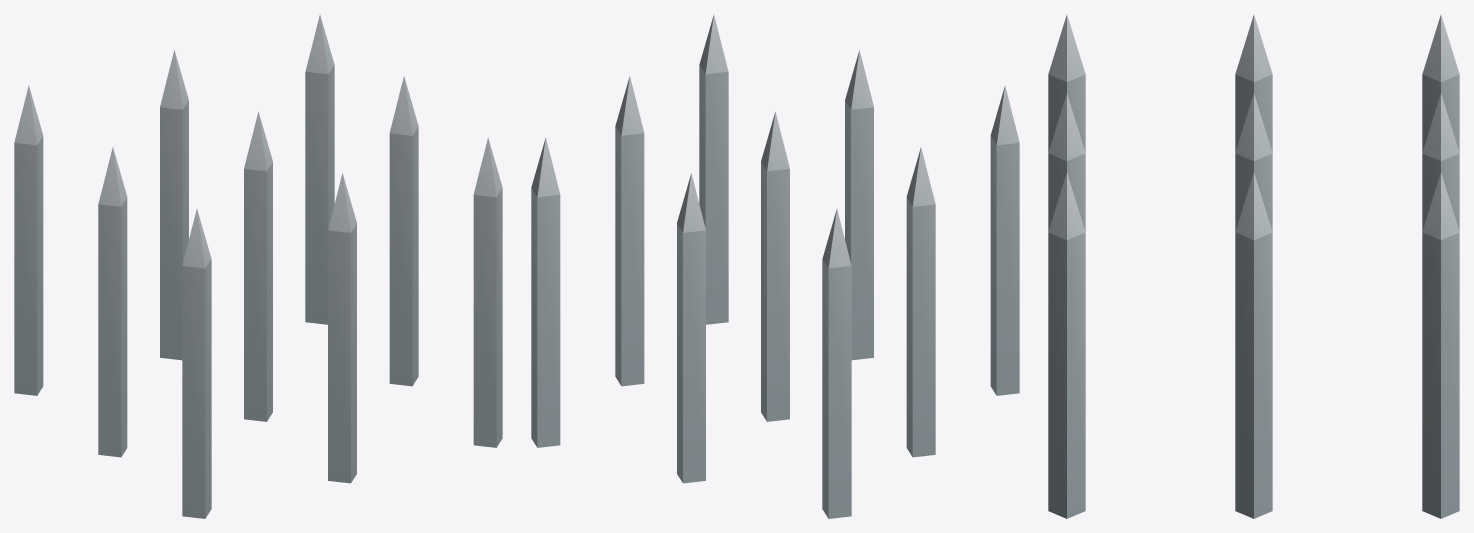
Rendered from floor_tile_big_spikes_spikes.obj.
3 views of the same model, side by side, from view 1: azimuth 30°, elevation 25°; view 2: azimuth 150°, elevation 25°; view 3: azimuth 270°, elevation 25° (orthographic). The views are drawn at different scales.
Parts seen in each view (by area): view 1: spikes; view 2: spikes; view 3: spikes.
Part boxes in pixels (bbox=[...]): spikes: bbox=[14, 14, 502, 518]; spikes: bbox=[531, 14, 1019, 518]; spikes: bbox=[1048, 14, 1459, 518].
Bounding box in the file's own units: 2.2 × 2 × 2.2.
1 material, 1 textured.
